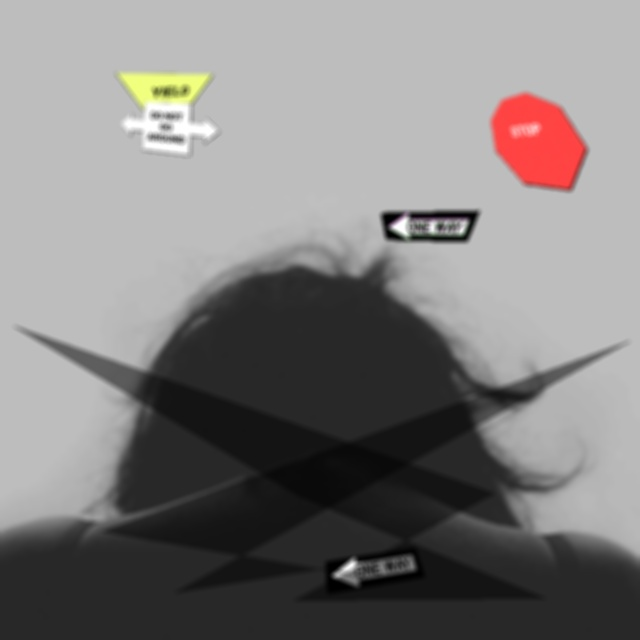DO_NOT_GO_AROUND: (120, 101, 220, 156)
ONE_WAY_ left: (325, 547, 425, 594), (380, 210, 480, 242)
STOP: (490, 92, 588, 191)
YIELD: (114, 72, 214, 140)
